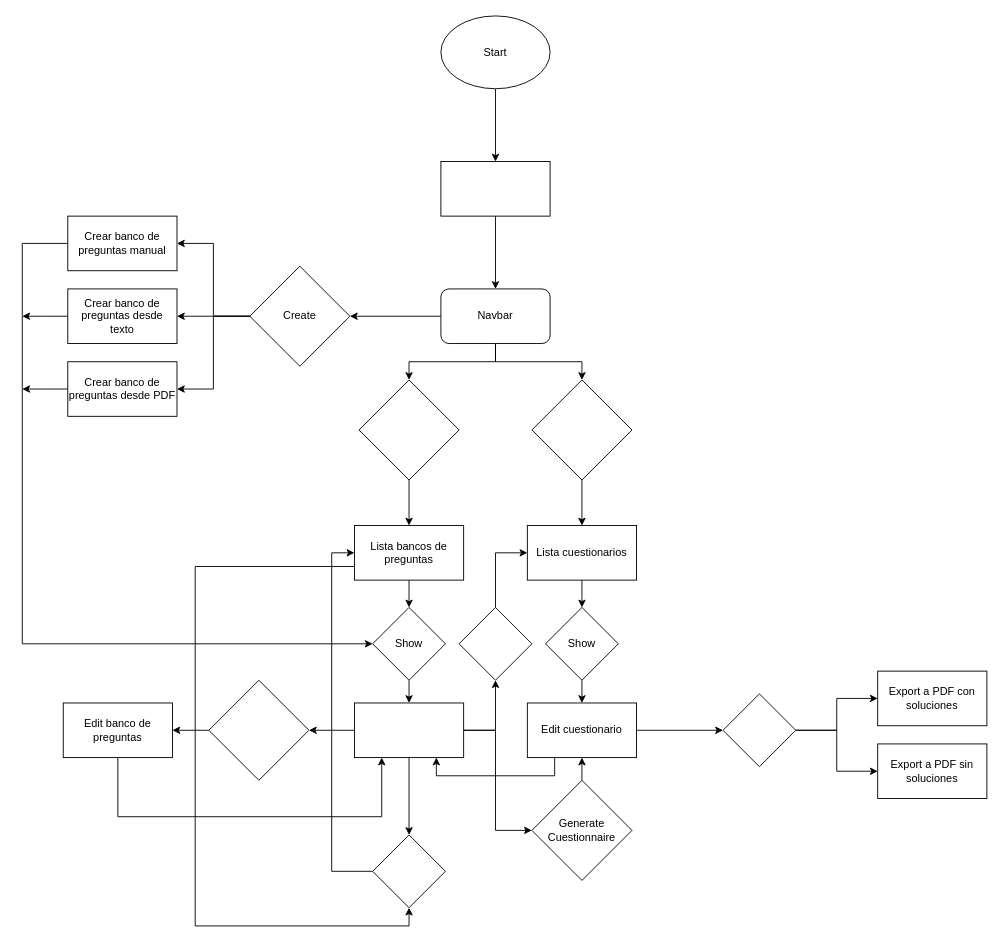
Image size: 1003x949. Some labels were removed from this diagram. Here are the shapes that lost their labels. From the top down, the box of each, then its label:
(440, 161, 550, 216): Index
(358, 379, 459, 480): Show bancos de preguntas
(531, 379, 632, 480): Show cuestionarios
(458, 607, 532, 680): Filter
(208, 679, 309, 780): Edit
(354, 702, 464, 758): Show Banco de preguntas
(722, 693, 796, 767): Export
(372, 834, 445, 908): Delete
